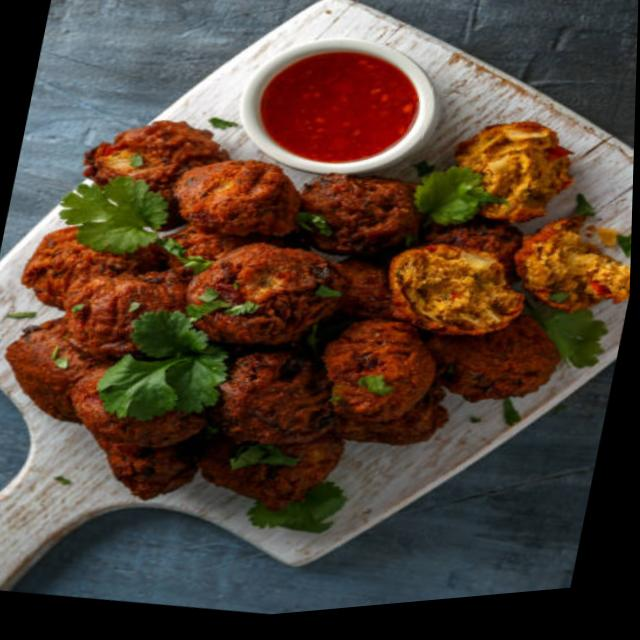BONDA: (16, 115, 629, 506)
RED CHUTNEY: (253, 39, 437, 169)
